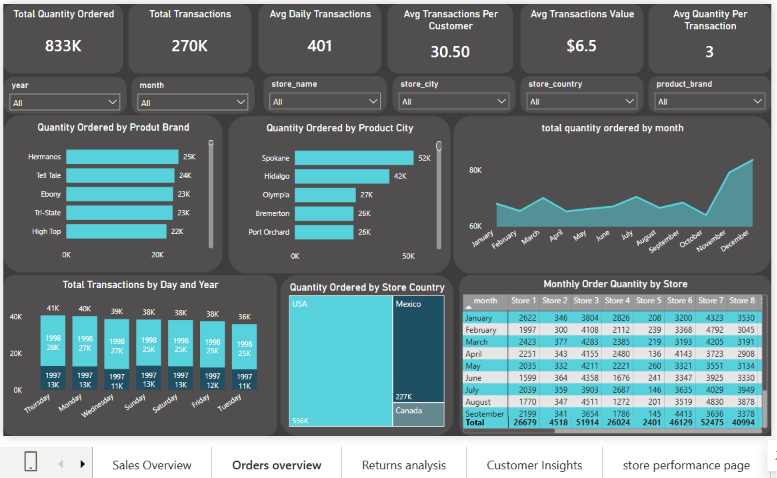

What the dashboard file says about the page in this screenshot:
{"tool":"powerbi","page":{"name":"Orders overview","canvas":[1280,720],"ordinal":1},"visuals":[{"type":"cardVisual","title":"Total Quantity Ordered","fields":{"Data":["Measures (2).total quantity ordered"]},"box":[0,0,200,116.2],"z":0},{"type":"cardVisual","title":"Avg Transactions Value","fields":{"Data":["Measures (2).Avg transaction value"]},"box":[860.9,0,205.4,116.2],"z":1000},{"type":"cardVisual","title":"Total Transactions","fields":{"Data":["Measures (2).Total Transactions"]},"box":[209.1,0,205,116.2],"z":2000},{"type":"cardVisual","title":"Avg Quantity Per Transaction","fields":{"Data":["Measures (2).average quantity per transaction"]},"box":[1074.9,0,205.4,116.2],"z":3000},{"type":"lineChart","fields":{"Category":["calendar.month","calendar.year"],"Y":["Measures (2).total quantity ordered"]},"box":[750.4,187,529.6,261.8],"z":4000},{"type":"barChart","title":"Quantity Ordered by Produt Brand","fields":{"Category":["Products.product_brand","Products.product_name"],"Y":["Measures (2).total quantity ordered"]},"box":[0,185.8,365.6,261.8],"z":5000},{"type":"columnChart","title":"Total Transactions by Day and Year","fields":{"Category":["calendar.day"],"Y":["Measures (2).Total Transactions"],"Series":["calendar.year"]},"box":[0,452.4,456.1,267.8],"z":6000},{"type":"barChart","title":"Quantity Ordered by Product City","fields":{"Y":["Measures (2).total quantity ordered"],"Category":["Customers.customer_city","Customers.customer_country"]},"box":[374.2,185.9,370.5,261.7],"z":7000},{"type":"cardVisual","title":"Avg Transactions Per Customer","fields":{"Data":["Measures (2).Average transactions per customer"]},"box":[639.5,0,210.3,116.2],"z":8000},{"type":"cardVisual","title":"Avg Daily Transactions ","fields":{"Data":["Measures (2).Avg Daily Transactions"]},"box":[424.3,0,205.4,116.2],"z":9000},{"type":"treemap","title":"Quantity Ordered by Store Country","fields":{"Group":["Stores.store_country"],"Values":["Measures (2).total quantity ordered"]},"box":[462.2,452.4,288.6,267.8],"z":10000},{"type":"pivotTable","title":"Monthly Order Quantity by Store","fields":{"Rows":["calendar.month"],"Values":["Measures (2).total quantity ordered"],"Columns":["Stores.store_name"]},"box":[760.1,452.4,520,267.8],"z":11000},{"type":"slicer","fields":{"Values":["calendar.year"]},"box":[0,121.1,205,61.1],"z":12000},{"type":"slicer","fields":{"Values":["calendar.month"]},"box":[214,121,205.4,61.1],"z":13000},{"type":"slicer","fields":{"Values":["Stores.store_name"]},"box":[433.1,120.6,206.3,61.5],"z":14000},{"type":"slicer","fields":{"Values":["Stores.store_city"]},"box":[647.9,120.6,205.1,61.5],"z":15000},{"type":"slicer","fields":{"Values":["Stores.store_country"]},"box":[861.4,120.6,205.1,61.5],"z":16000},{"type":"slicer","fields":{"Values":["Products.product_brand"]},"box":[1074.9,120.6,205.1,61.5],"z":17000}]}

Visuals, with their boxes on the page's 1280x720 design canvas (x1, y1, x2, y2). These are canvas units, not pixel positions in the 777x478 screenshot, which may show the page scaled, cropped or inside an application window:
"Total Quantity Ordered" cardVisual: crop(0, 0, 200, 116)
"Avg Transactions Value" cardVisual: crop(861, 0, 1066, 116)
"Total Transactions" cardVisual: crop(209, 0, 414, 116)
"Avg Quantity Per Transaction" cardVisual: crop(1075, 0, 1280, 116)
lineChart - calendar.month x calendar.year: crop(750, 187, 1280, 449)
"Quantity Ordered by Produt Brand" barChart: crop(0, 186, 366, 448)
"Total Transactions by Day and Year" columnChart: crop(0, 452, 456, 720)
"Quantity Ordered by Product City" barChart: crop(374, 186, 745, 448)
"Avg Transactions Per Customer" cardVisual: crop(640, 0, 850, 116)
"Avg Daily Transactions " cardVisual: crop(424, 0, 630, 116)
"Quantity Ordered by Store Country" treemap: crop(462, 452, 751, 720)
"Monthly Order Quantity by Store" pivotTable: crop(760, 452, 1280, 720)
slicer - calendar.year: crop(0, 121, 205, 182)
slicer - calendar.month: crop(214, 121, 419, 182)
slicer - Stores.store_name: crop(433, 121, 639, 182)
slicer - Stores.store_city: crop(648, 121, 853, 182)
slicer - Stores.store_country: crop(861, 121, 1066, 182)
slicer - Products.product_brand: crop(1075, 121, 1280, 182)
